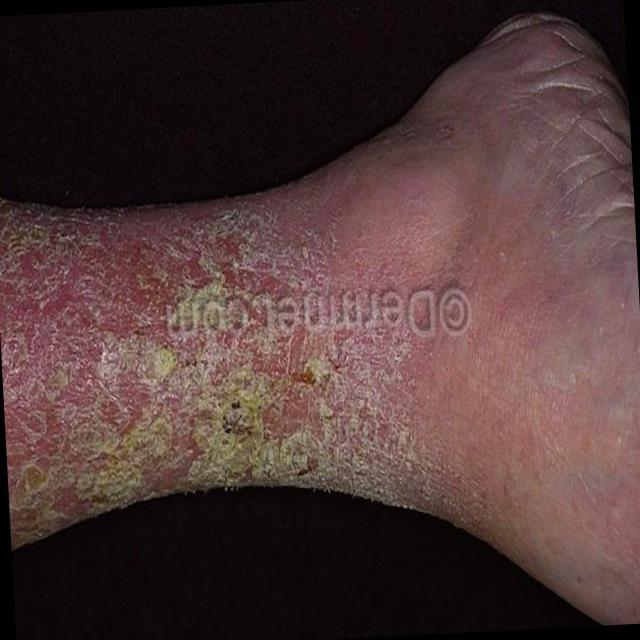Eczema: (0, 196, 420, 528)
